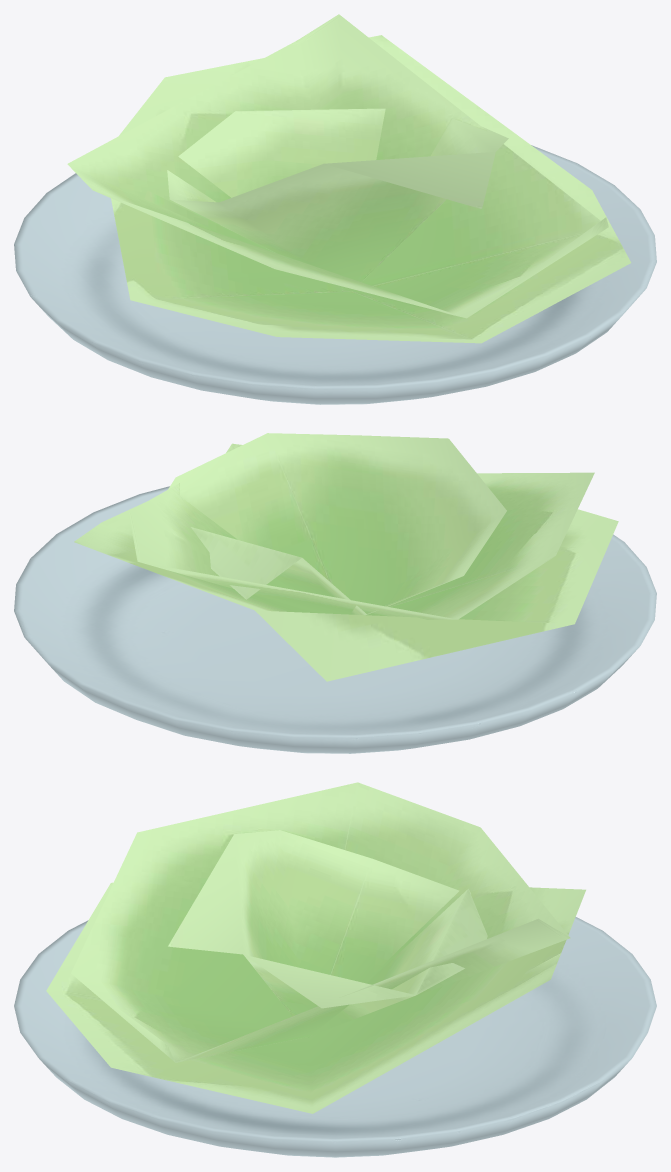
The model's file is Salade.glb.
3 renders of one model, top to bottom at view 1: azimuth 30°, elevation 25°; view 2: azimuth 150°, elevation 25°; view 3: azimuth 270°, elevation 25°, orthographic.
Parts seen in each view (by area): view 1: Assiette.006; view 2: Assiette.006; view 3: Assiette.006.
Part boxes in pixels (x1,y1,x2,y2): Assiette.006: (14, 14, 656, 404); Assiette.006: (14, 433, 656, 753); Assiette.006: (14, 782, 656, 1157).
Bounding box in the file's own units: 2.31 × 0.7606 × 2.31.
Materials: 2 (2 with a texture image).
